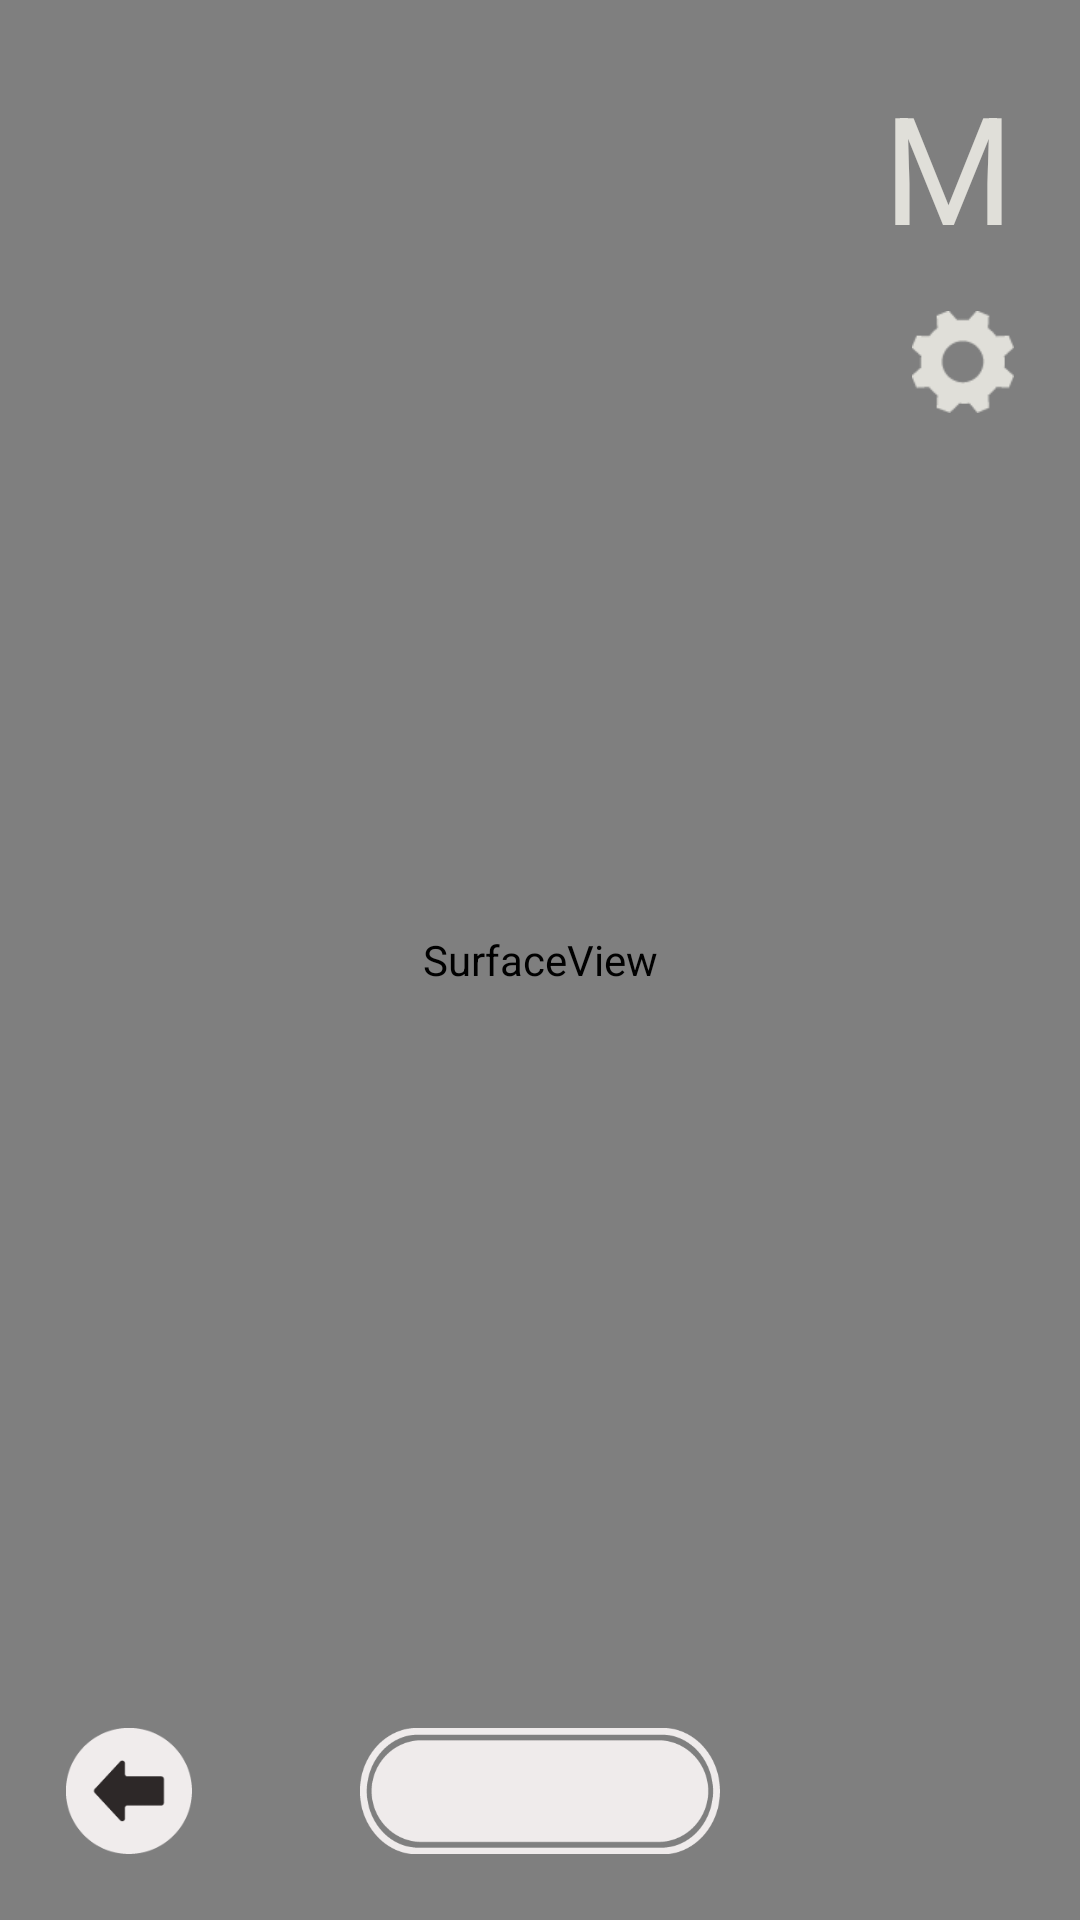

Named icons in this screenshot (1080x1920) and their centers, (x,y):
cam setting: (963,362)
